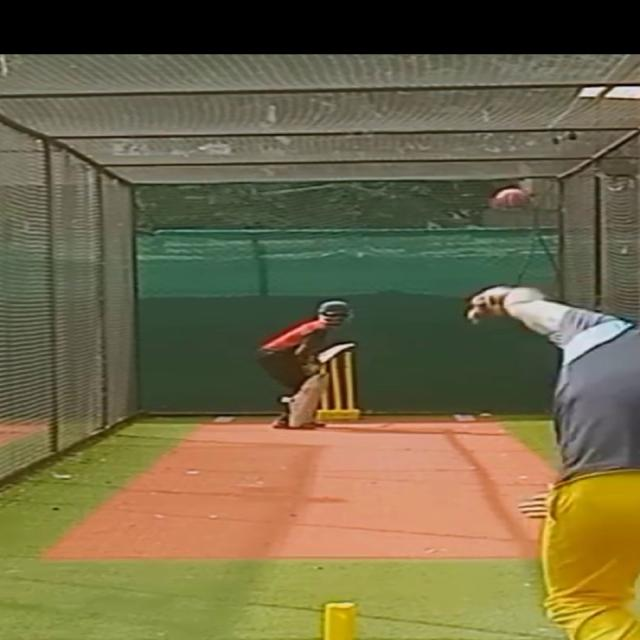ball: (495, 187, 536, 210)
stump: (316, 350, 364, 422)
